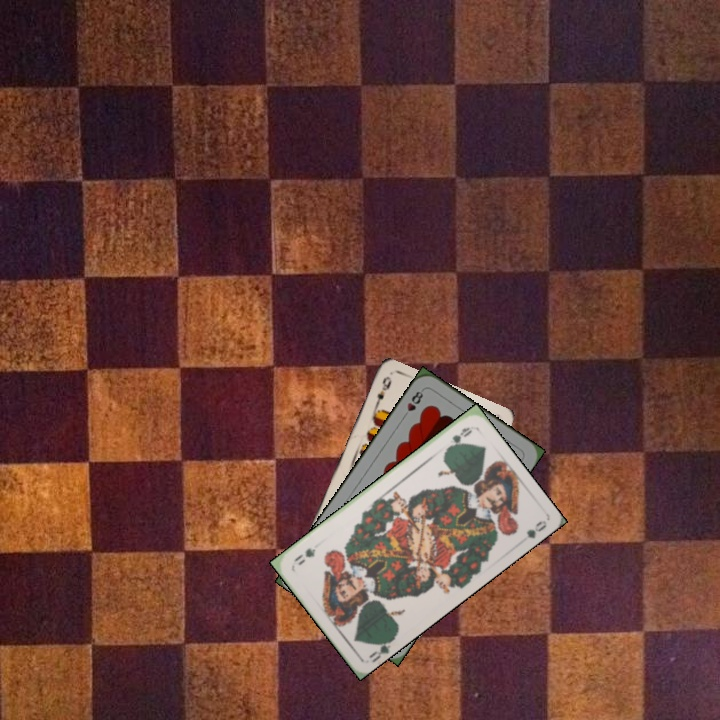E9: (370, 372, 394, 411)
GO: (365, 632, 397, 664), (441, 423, 474, 454)
H8: (399, 385, 426, 421)
